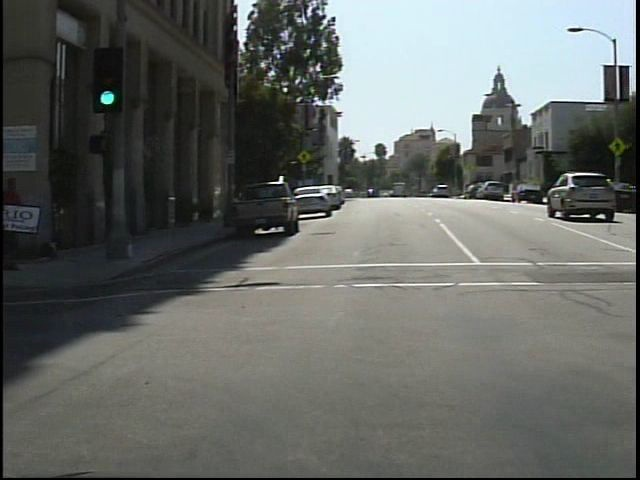person: (3, 162, 31, 280)
